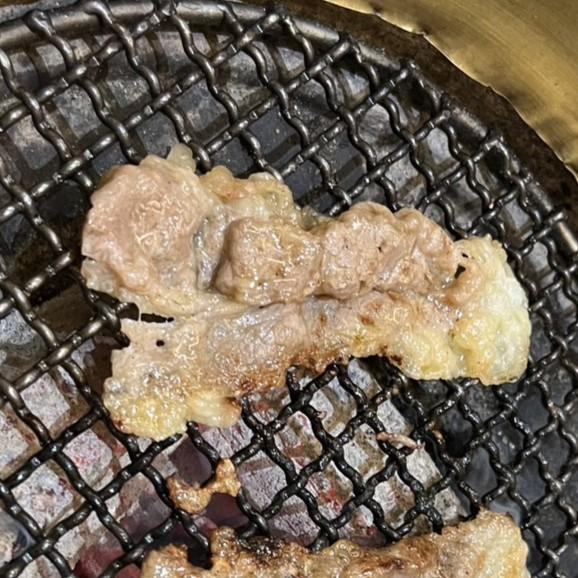Overcooked: (140, 514, 528, 577)
Well-Cooked: (79, 146, 532, 442)
